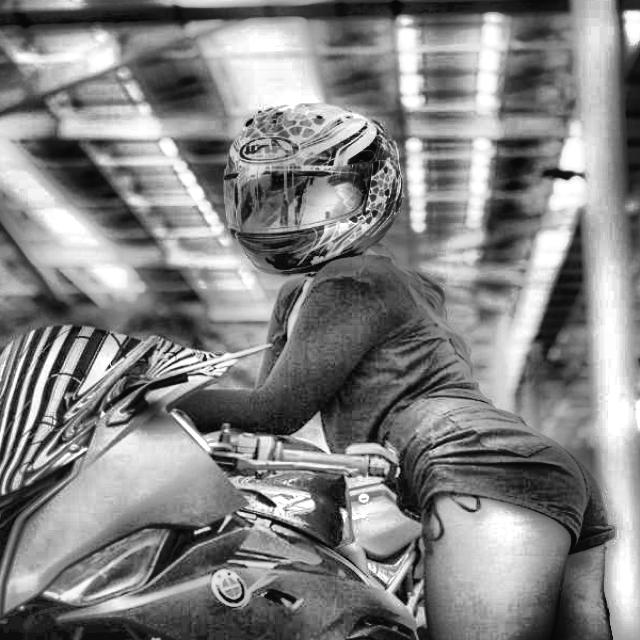Helmet: (217, 96, 410, 282)
